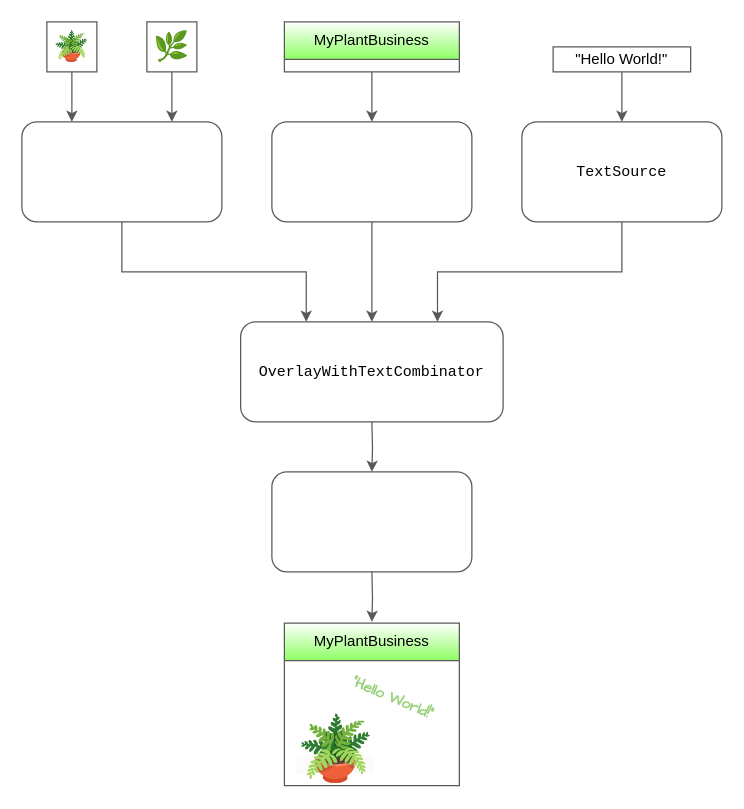
The diagram is 744 pixels wide and 809 high, and some of its shapes have lost their labels. The centre of each missing label's shape, as x and y in pixels:
ImageSlideshowSource: (121,171)
OverlaySource: (371,171)
Sink: (371,521)
